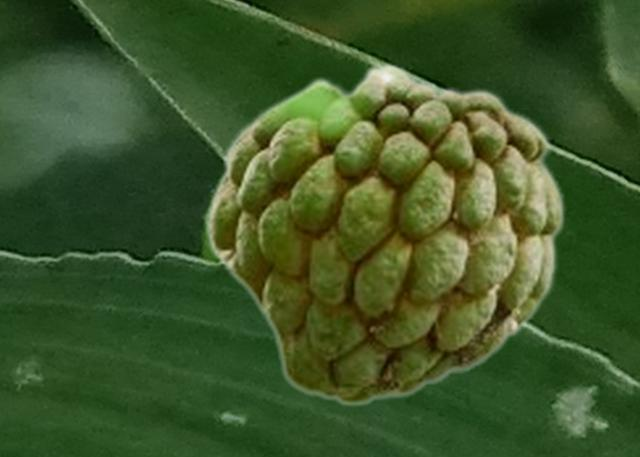atis: (202, 61, 565, 406)
